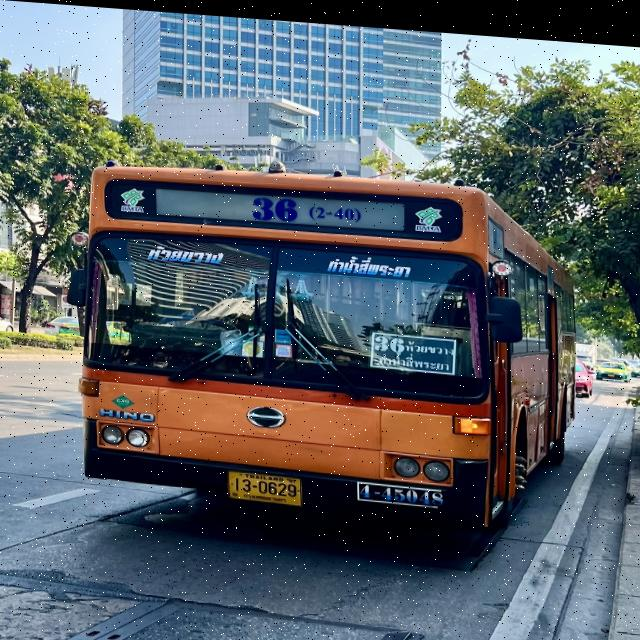BMTA-bus: (69, 164, 578, 525)
Bus Line Number: (236, 183, 365, 225)
Bus Side Number: (356, 477, 447, 502)
Destination Sign: (374, 325, 457, 369)
